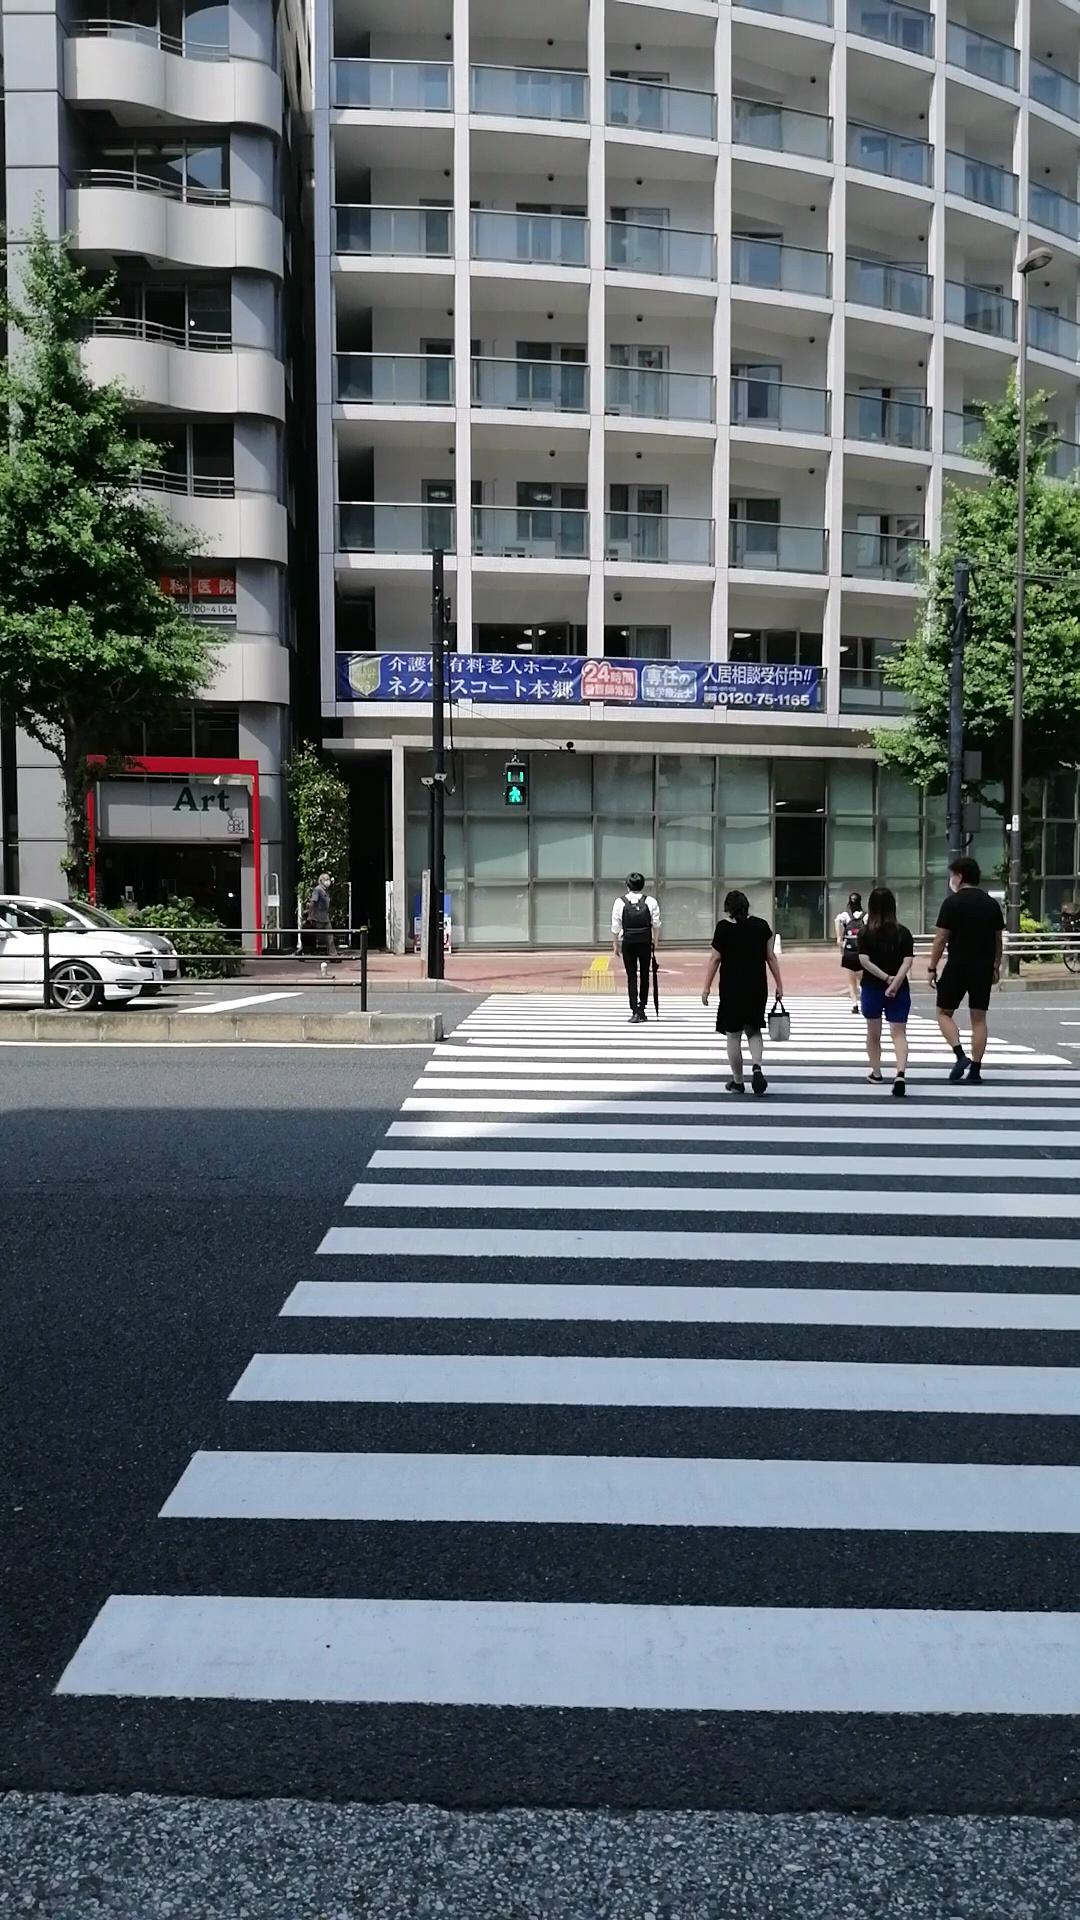green: (501, 762, 529, 807)
